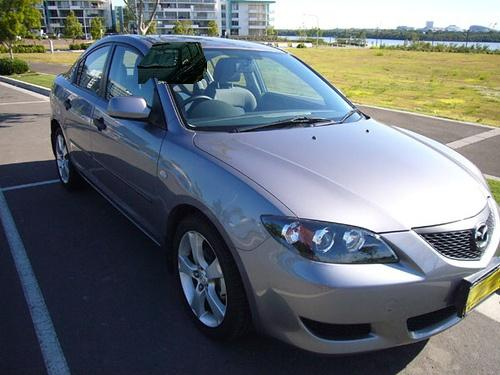tampered: (138, 43, 207, 84)
